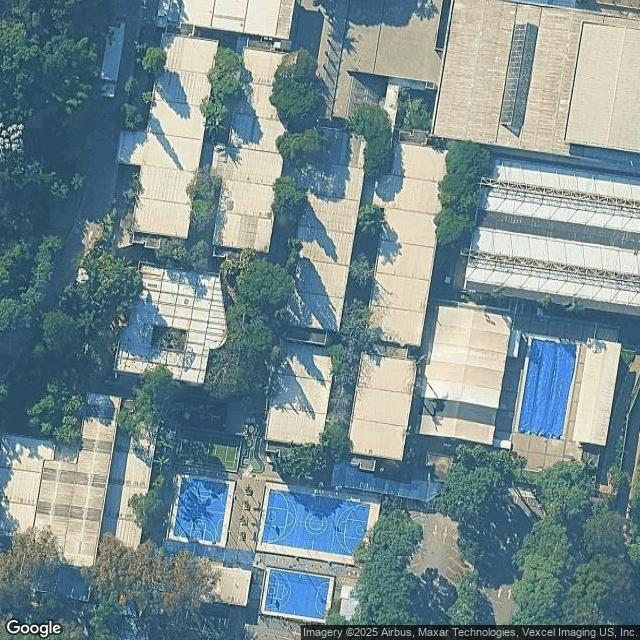pool: (548, 384, 567, 429)
